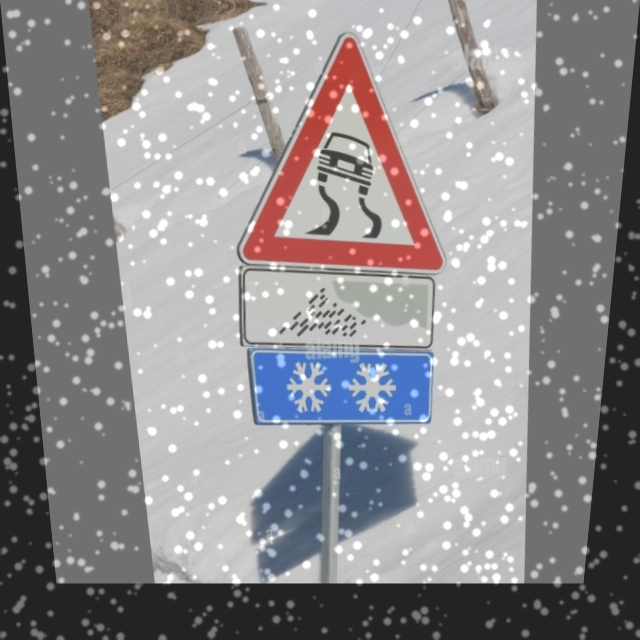Slippery_Road: (228, 28, 455, 276)
